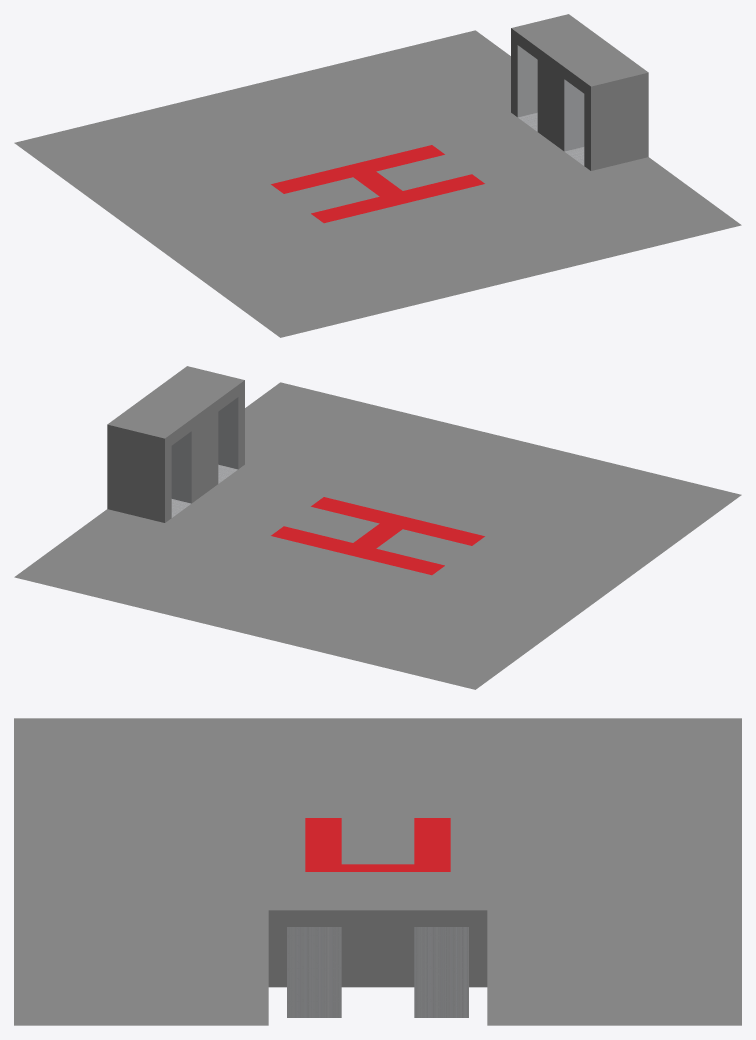
Rendered from roof.glb.
The picture shows the model from 3 angles, top to bottom: view 1: azimuth 30°, elevation 25°; view 2: azimuth 150°, elevation 25°; view 3: azimuth 270°, elevation 25°; orthographic projection. The views are drawn at different scales.
Visible parts, largest first — view 1: roof-col; view 2: roof-col; view 3: roof-col.
Boxes of the visible parts, x1,y1,x2,y2 form: roof-col: (14,14,741,337); roof-col: (14,366,741,689); roof-col: (14,718,741,1025).
Bounding box in the file's own units: 20 × 3.5 × 20.
Materials: 3 (1 with a texture image).
